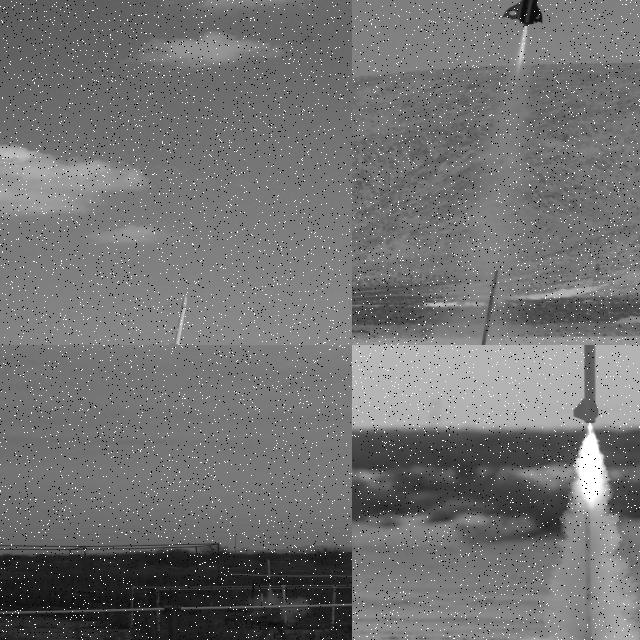Rocket: (571, 345, 601, 424), (500, 0, 554, 26), (164, 295, 187, 345), (249, 580, 257, 605), (266, 558, 273, 584), (260, 590, 264, 607)
